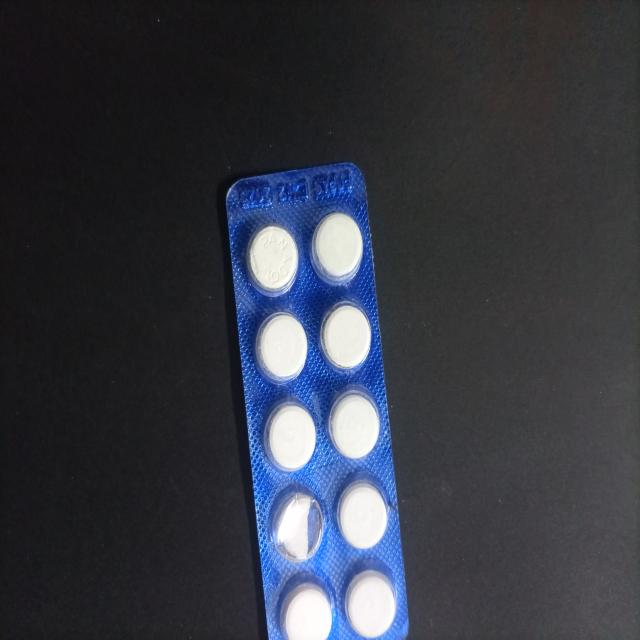defect: (267, 480, 327, 566)
